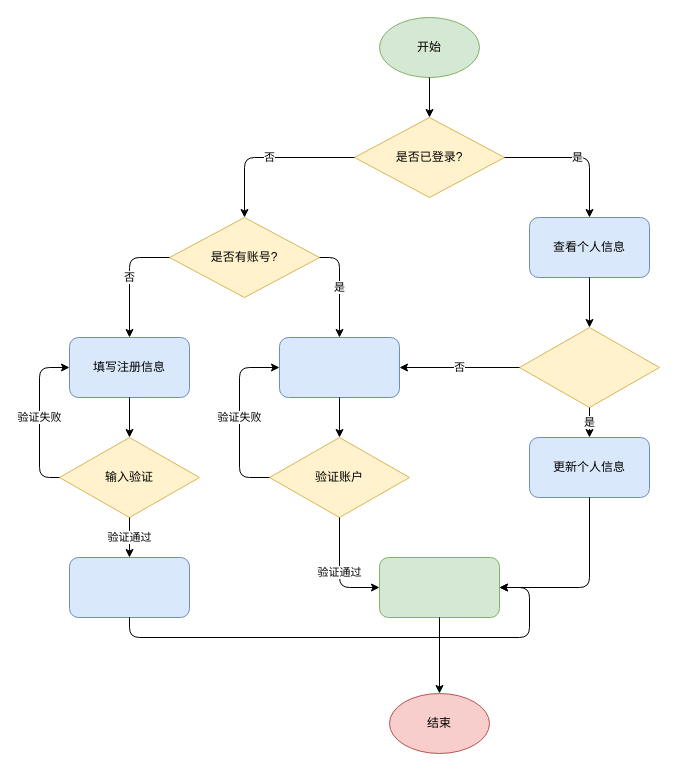
Image size: 677x771. Some labels were removed from this diagram. Each missing label, with the box of its shape:
创建账户: (68, 556, 190, 618)
是否修改信息?: (518, 326, 660, 408)
登录成功: (378, 556, 500, 618)
输入用户名密码: (278, 336, 400, 398)
